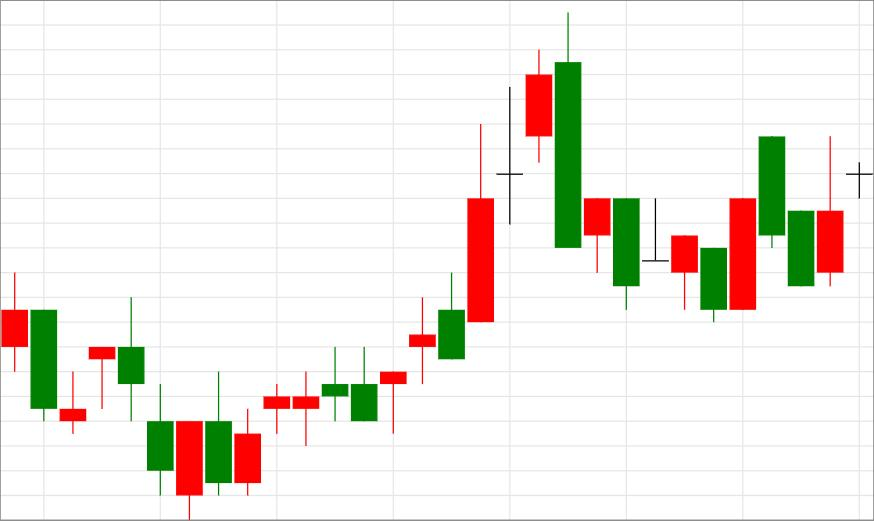bearish_engulfing_fall: (380, 13, 582, 435)
